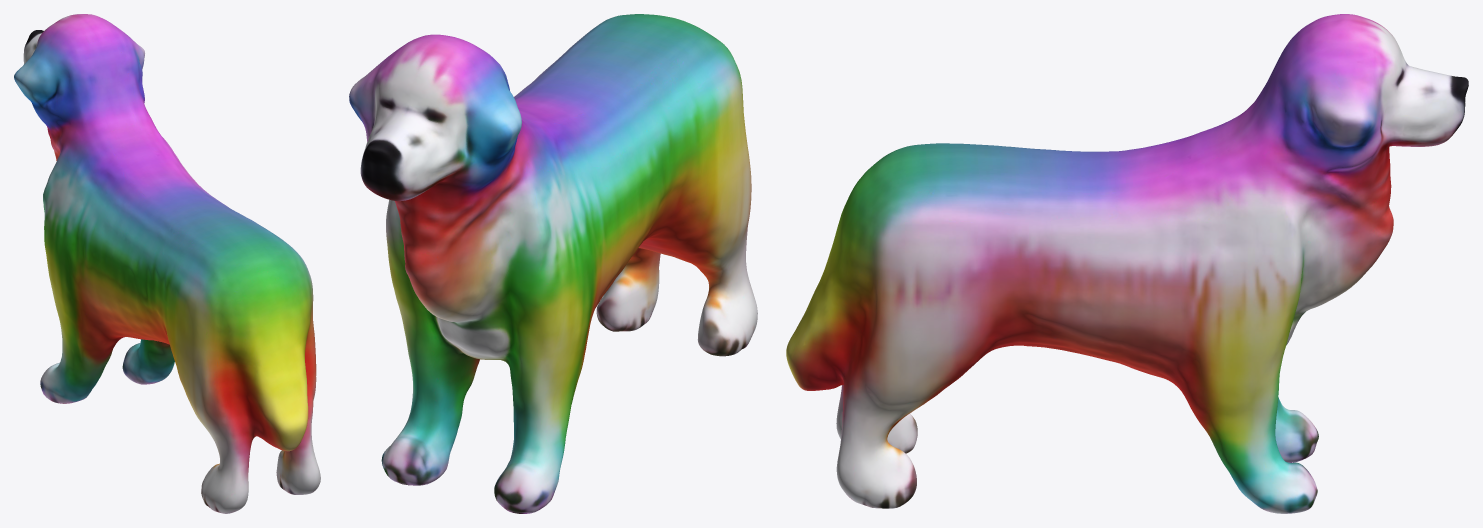
Rendered from rainbow_goldenretri.glb.
3 renders of one model, left to right at view 1: azimuth 30°, elevation 25°; view 2: azimuth 150°, elevation 25°; view 3: azimuth 270°, elevation 25°, orthographic. The views are drawn at different scales.
Parts seen in each view (by area): view 1: high_poly; view 2: high_poly; view 3: high_poly.
Boxes of the visible parts, <box> form: high_poly: <box>14,14,320,513</box>; high_poly: <box>349,14,757,513</box>; high_poly: <box>786,14,1468,513</box>.
Bounding box in the file's own units: 0.2871 × 0.7512 × 1.
1 material, 1 textured.
